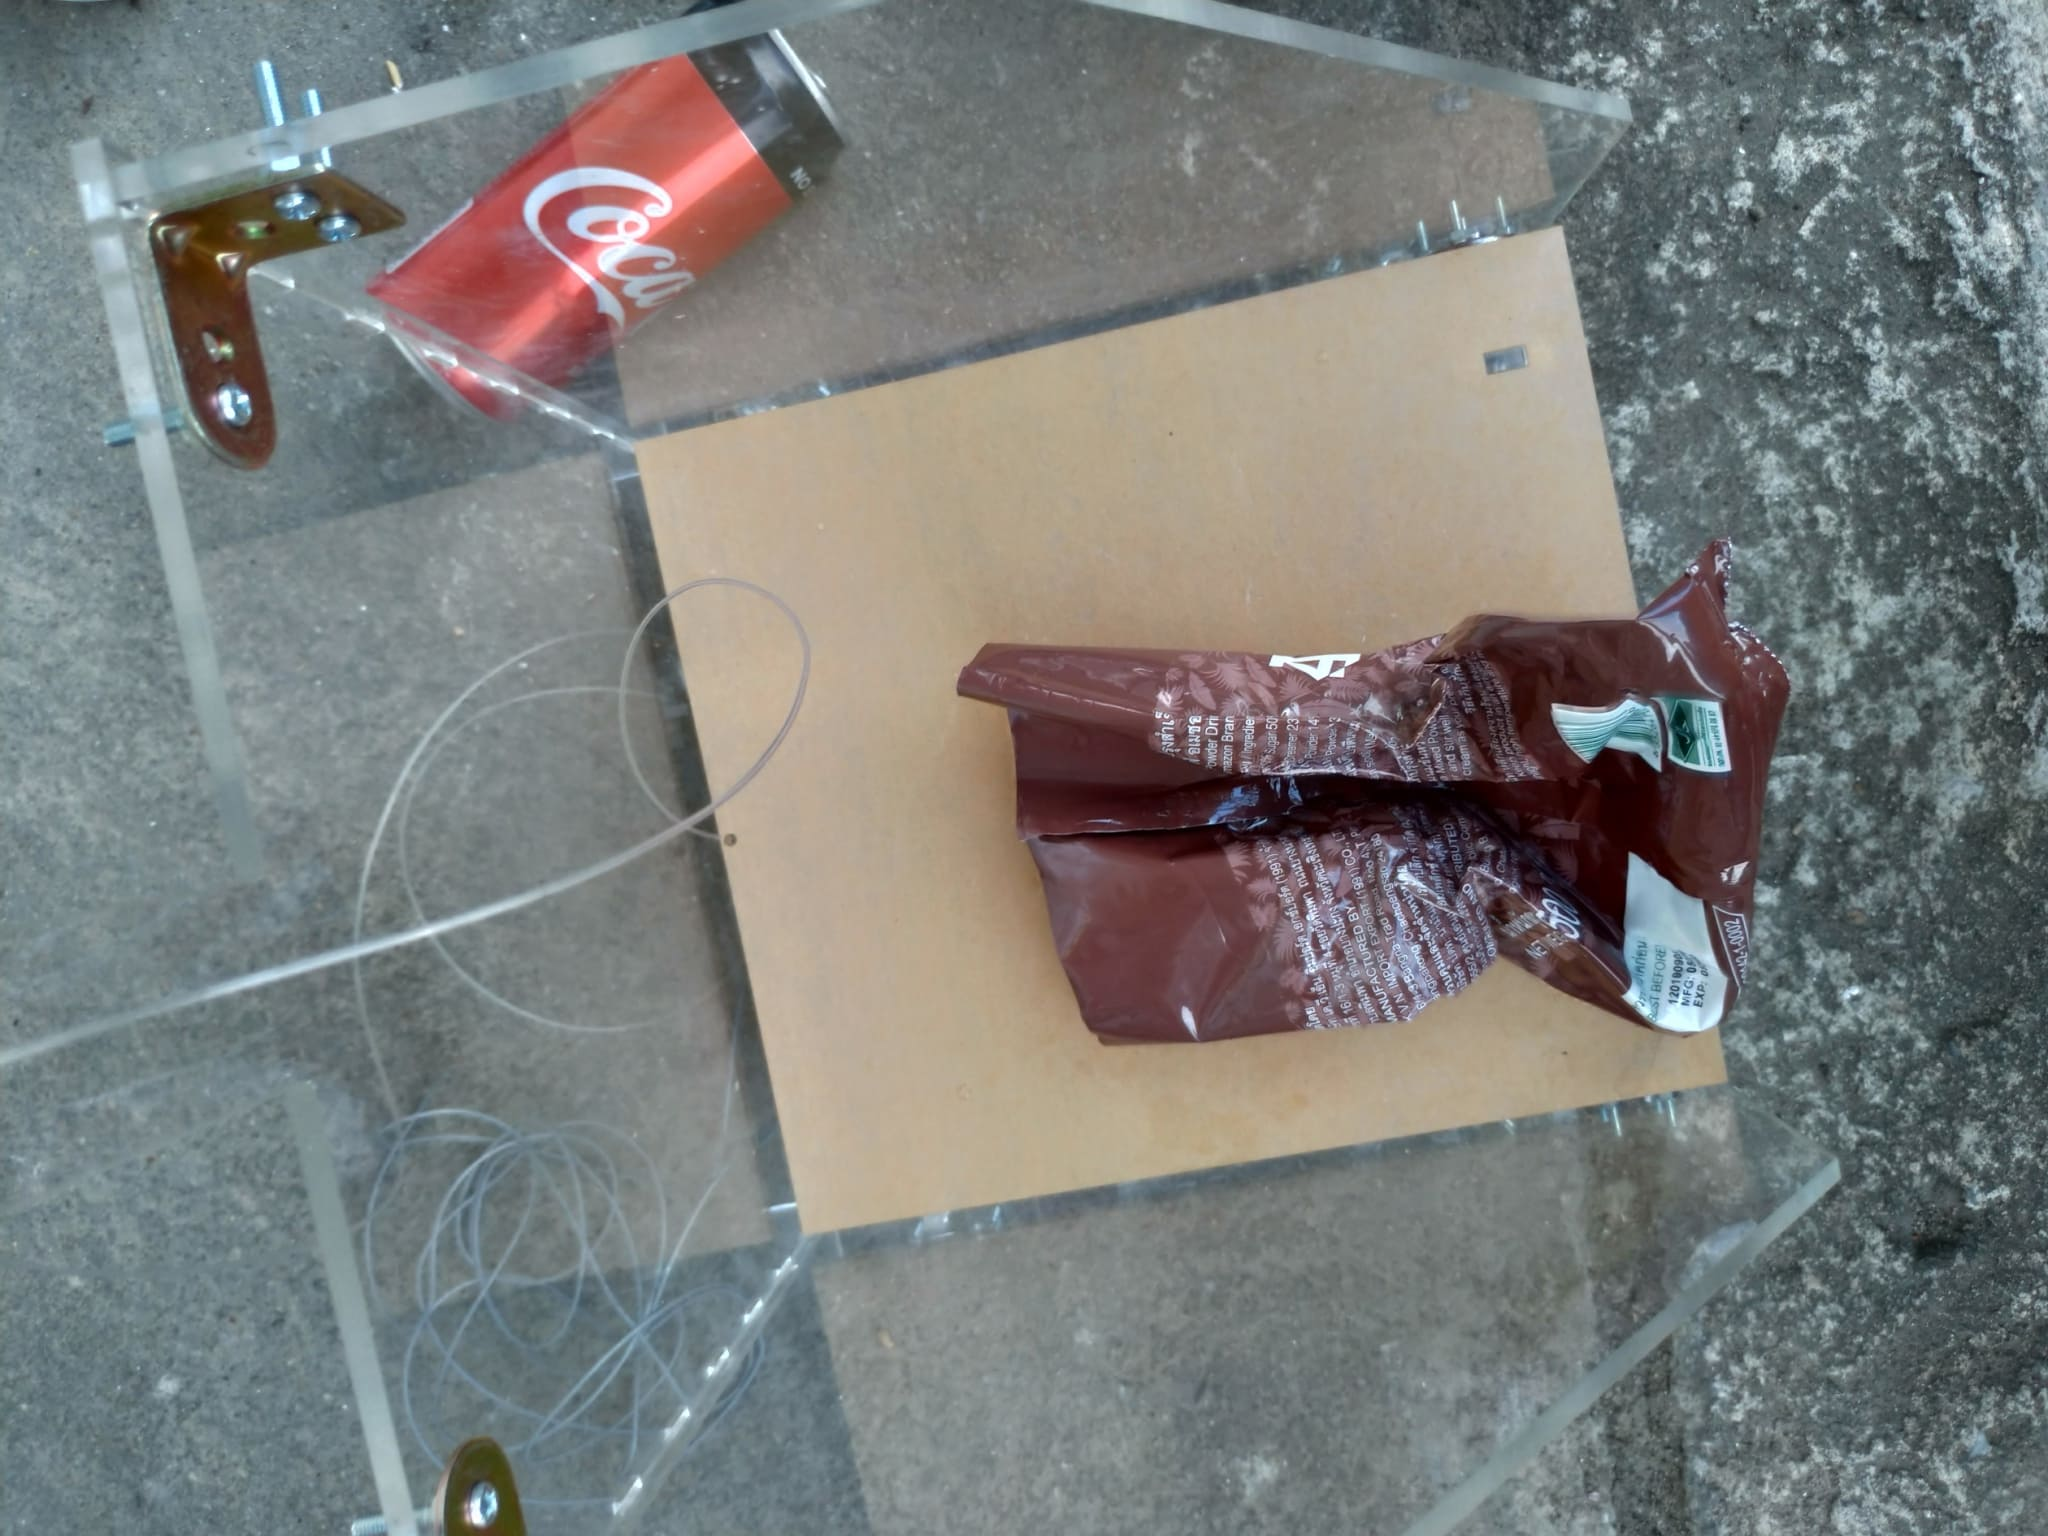AlCan: (361, 19, 837, 440)
Others: (951, 549, 1766, 1065)
